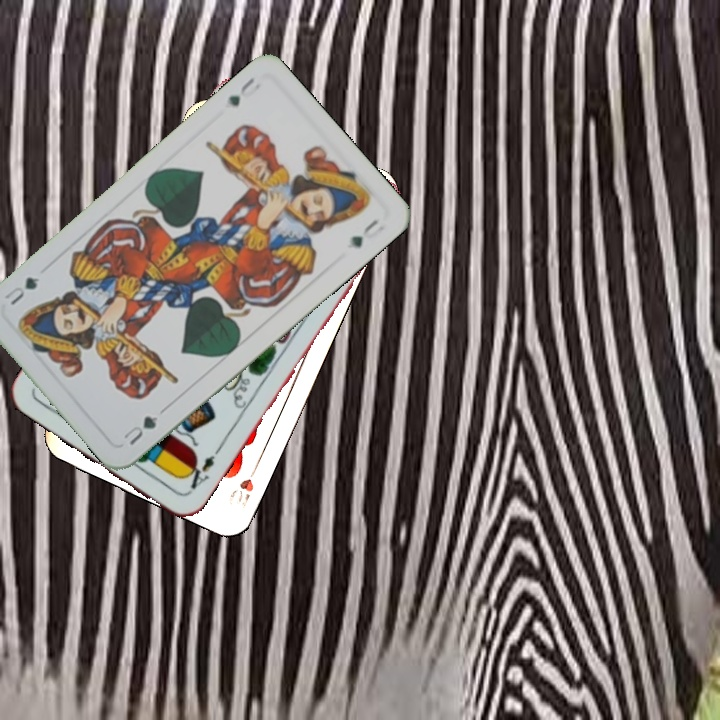EA: (179, 451, 218, 496)
GU: (119, 405, 168, 448), (222, 73, 263, 109)
H10: (226, 458, 262, 512)
